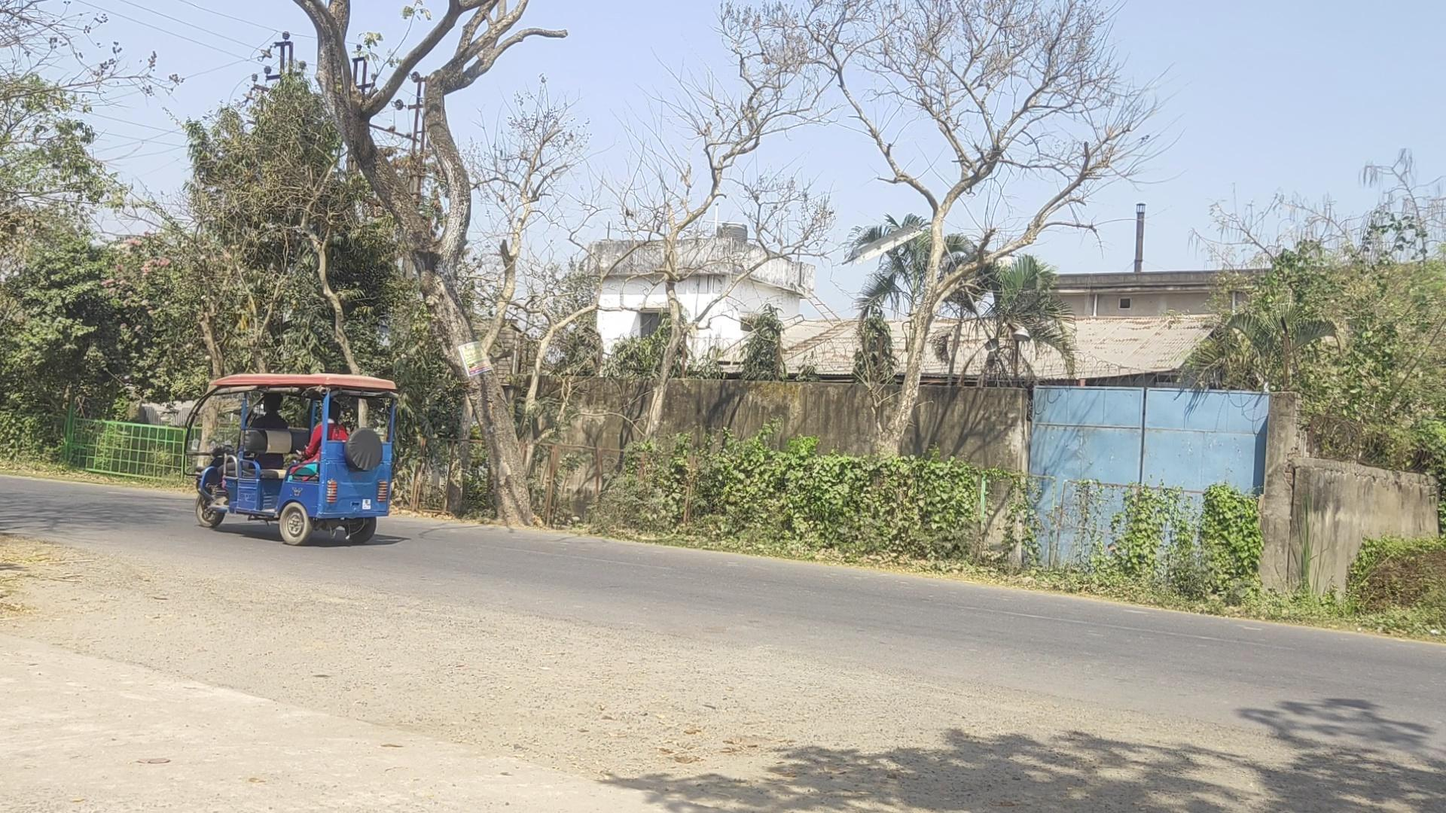Auto: (182, 373, 399, 547)
